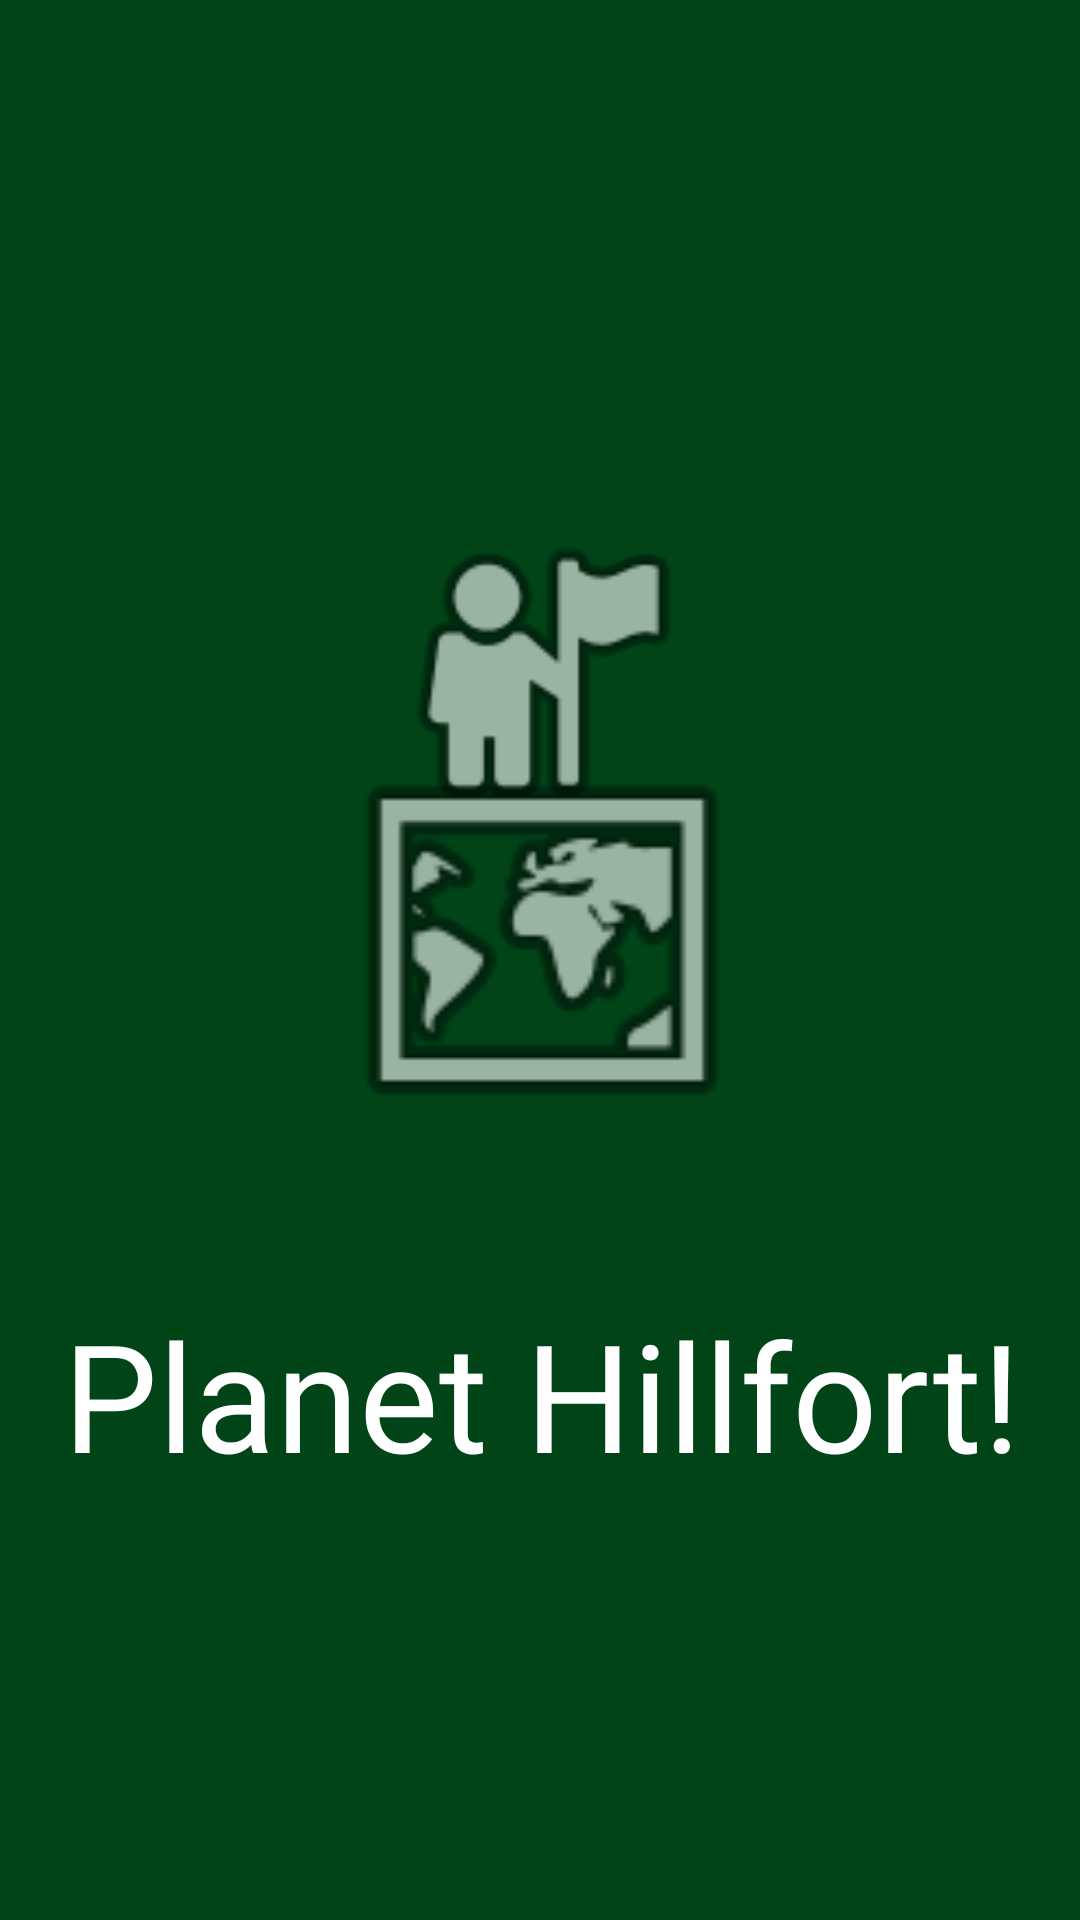

Where to tap for icons on this 1080 x 1920 app screen, as (x,y):
myplaces: (540,700)
